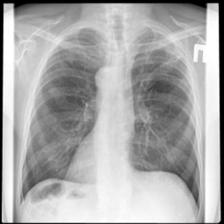tuberculosis: (18, 20, 205, 219)
